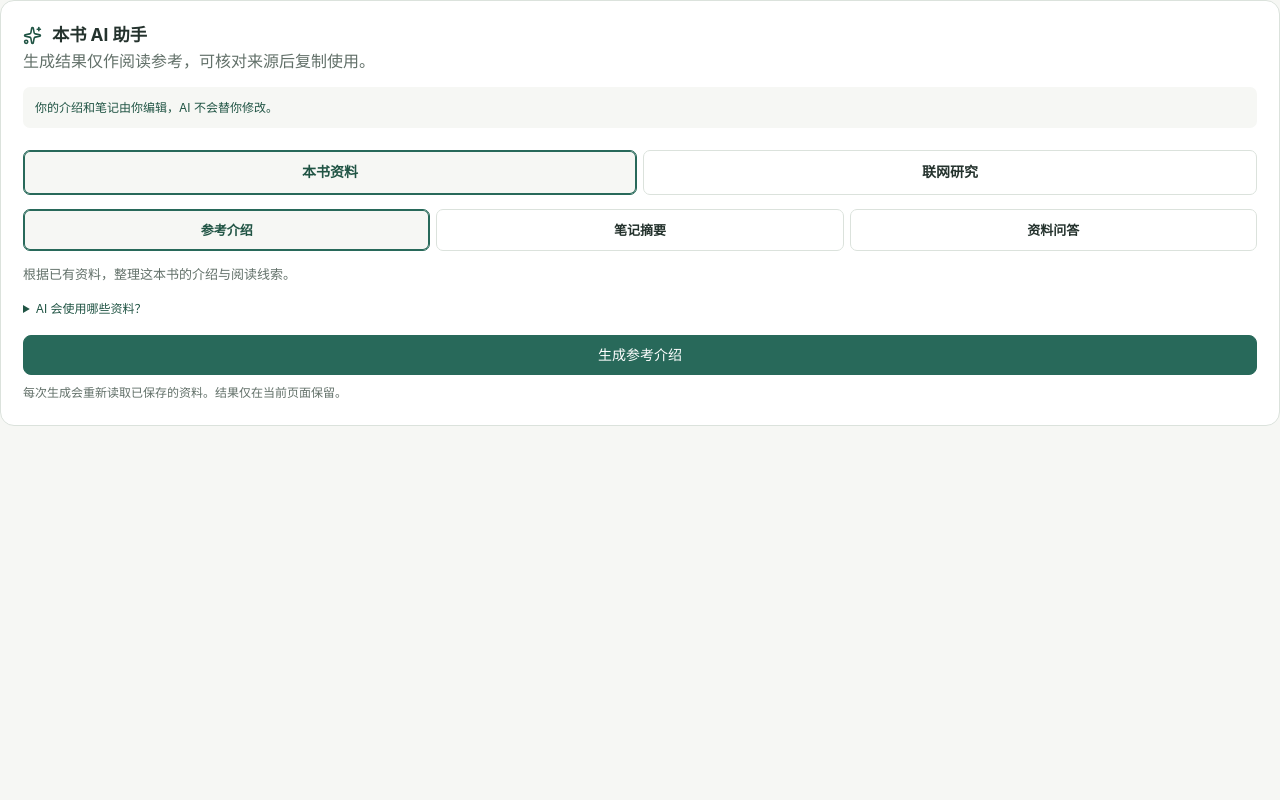
Test: book AI read-only sidebar › generates a read-only result with exact source excerpts, counts and current-book links
Click the button "生成参考介绍": {"x": 640, "y": 355} x1=23 y1=335 x2=1257 y2=375
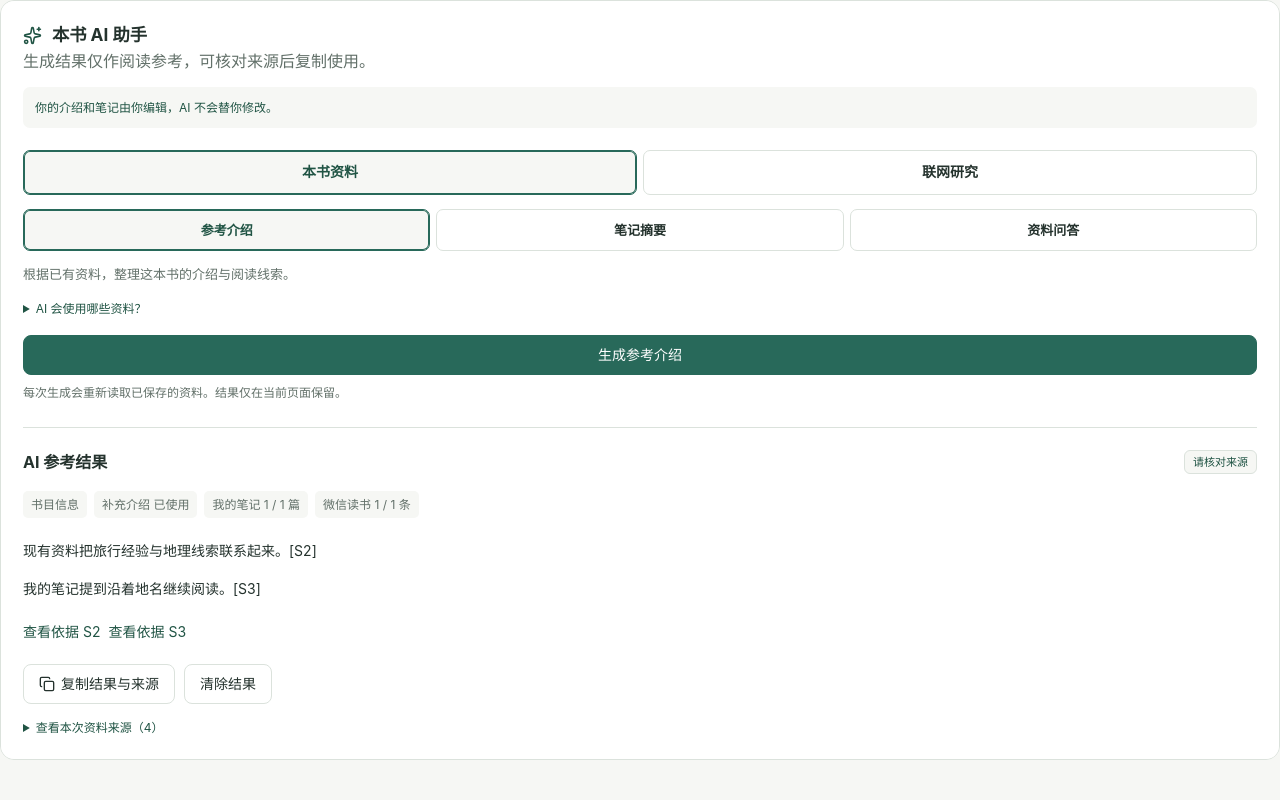
Result: the element named "AI 参考结果" shows "现有资料把旅行经验与地理线索联系起来。[S2]" at x1=23 y1=542 x2=317 y2=559
Result: the element named "AI 参考结果" shows "我的笔记提到沿着地名继续阅读。[S3]" at x1=23 y1=580 x2=261 y2=597
Result: the element named "本次实际使用的资料" shows "我的笔记 1 / 1 篇" at x1=23 y1=491 x2=419 y2=518
Click the button "查看依据 S3": {"x": 147, "y": 632} x1=108 y1=615 x2=186 y2=648
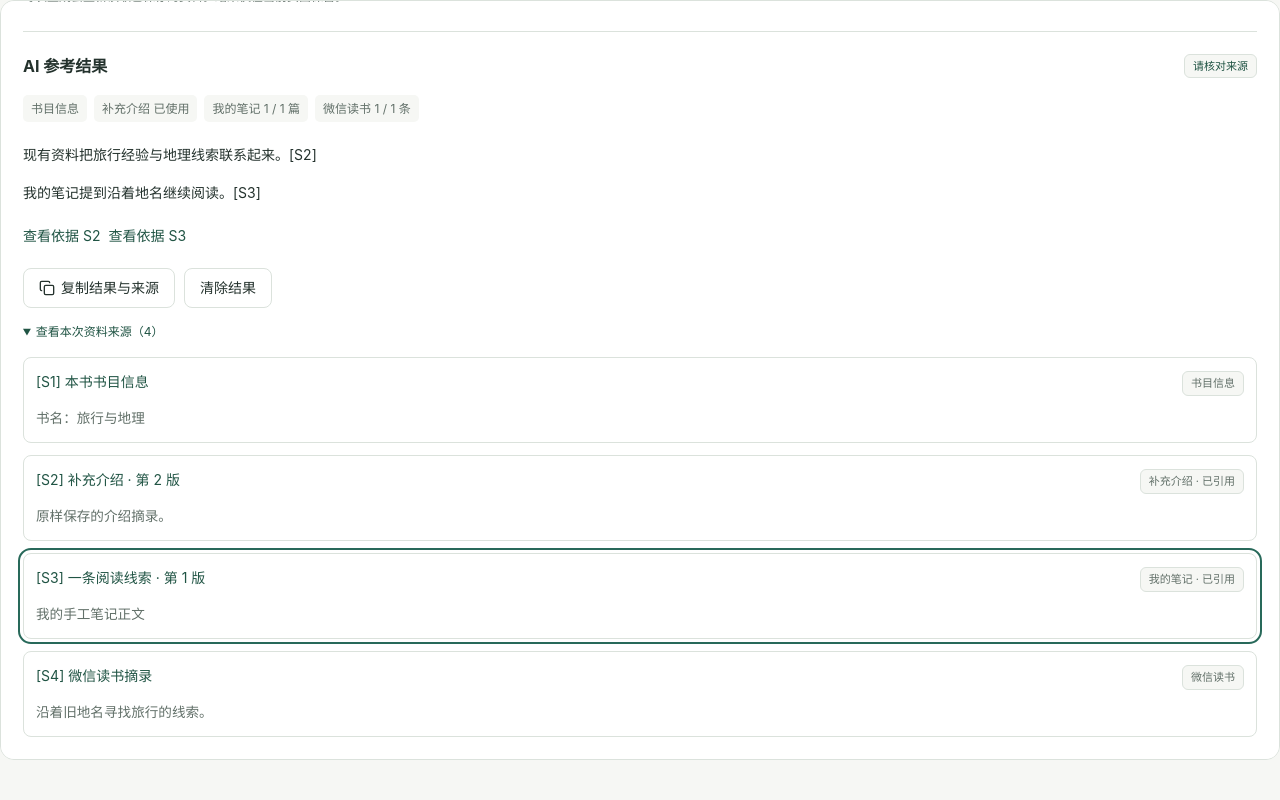
Result: the list item "[S3] 一条阅读线索 · 第 1 版 我的笔记 · 已引用 我的手工笔记正文" is shown at x1=23 y1=553 x2=1257 y2=639
